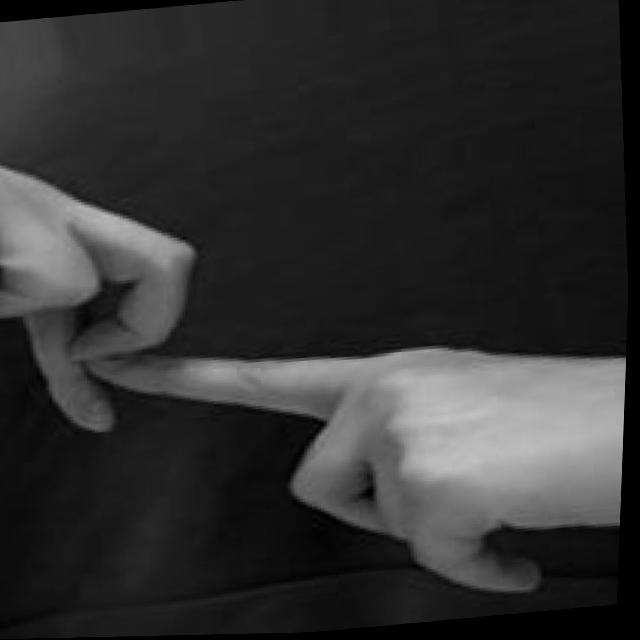R: (0, 82, 636, 640)
